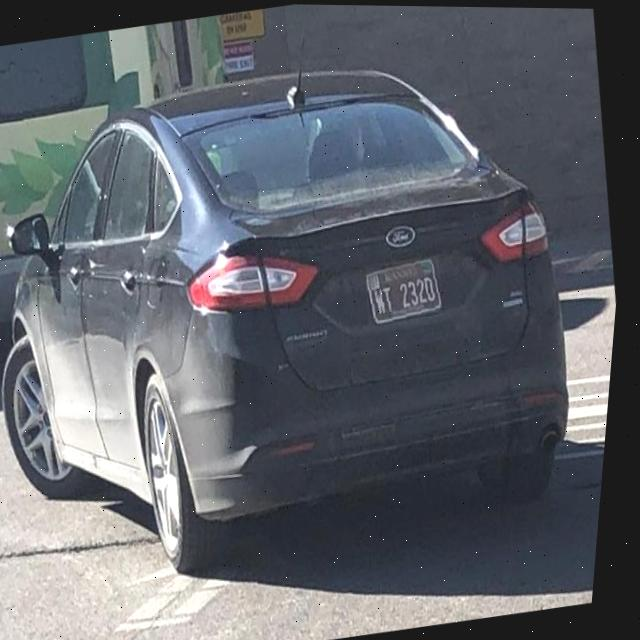LicensePlate: (370, 255, 448, 324)
